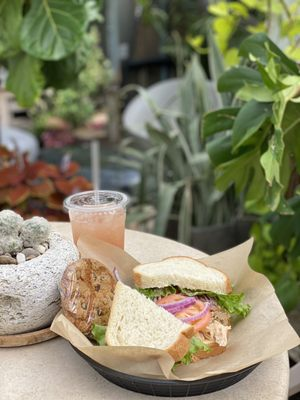pizza: (64, 190, 141, 288), (63, 189, 129, 259)
soup: (132, 257, 252, 353), (0, 213, 78, 341), (102, 278, 193, 364), (53, 258, 118, 346), (132, 256, 233, 302)
